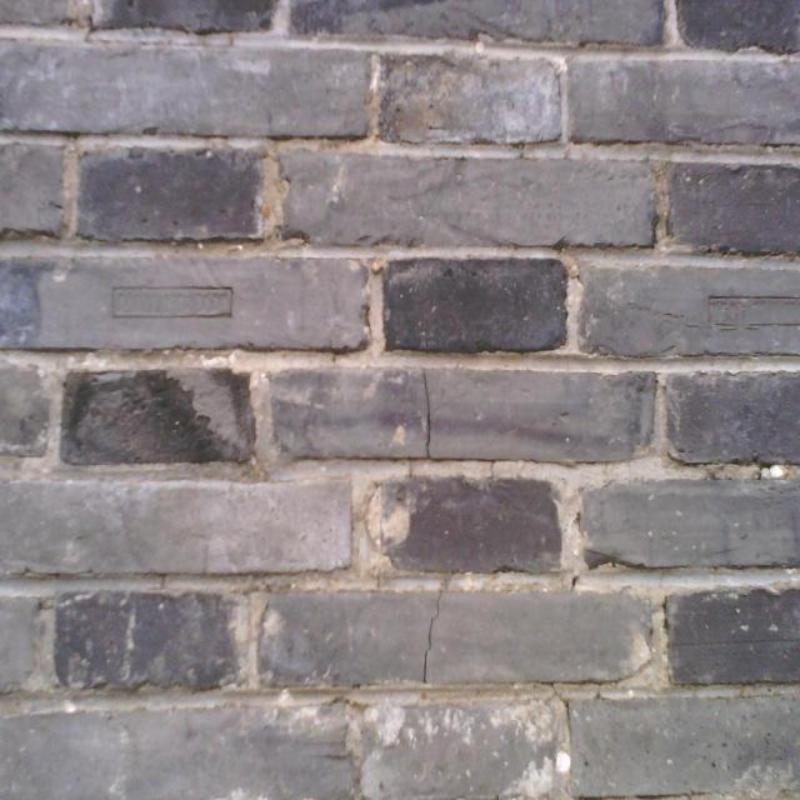pothole: (424, 590, 441, 684), (423, 373, 431, 459), (546, 680, 569, 706), (595, 681, 604, 700), (490, 460, 495, 479), (409, 460, 414, 478)
